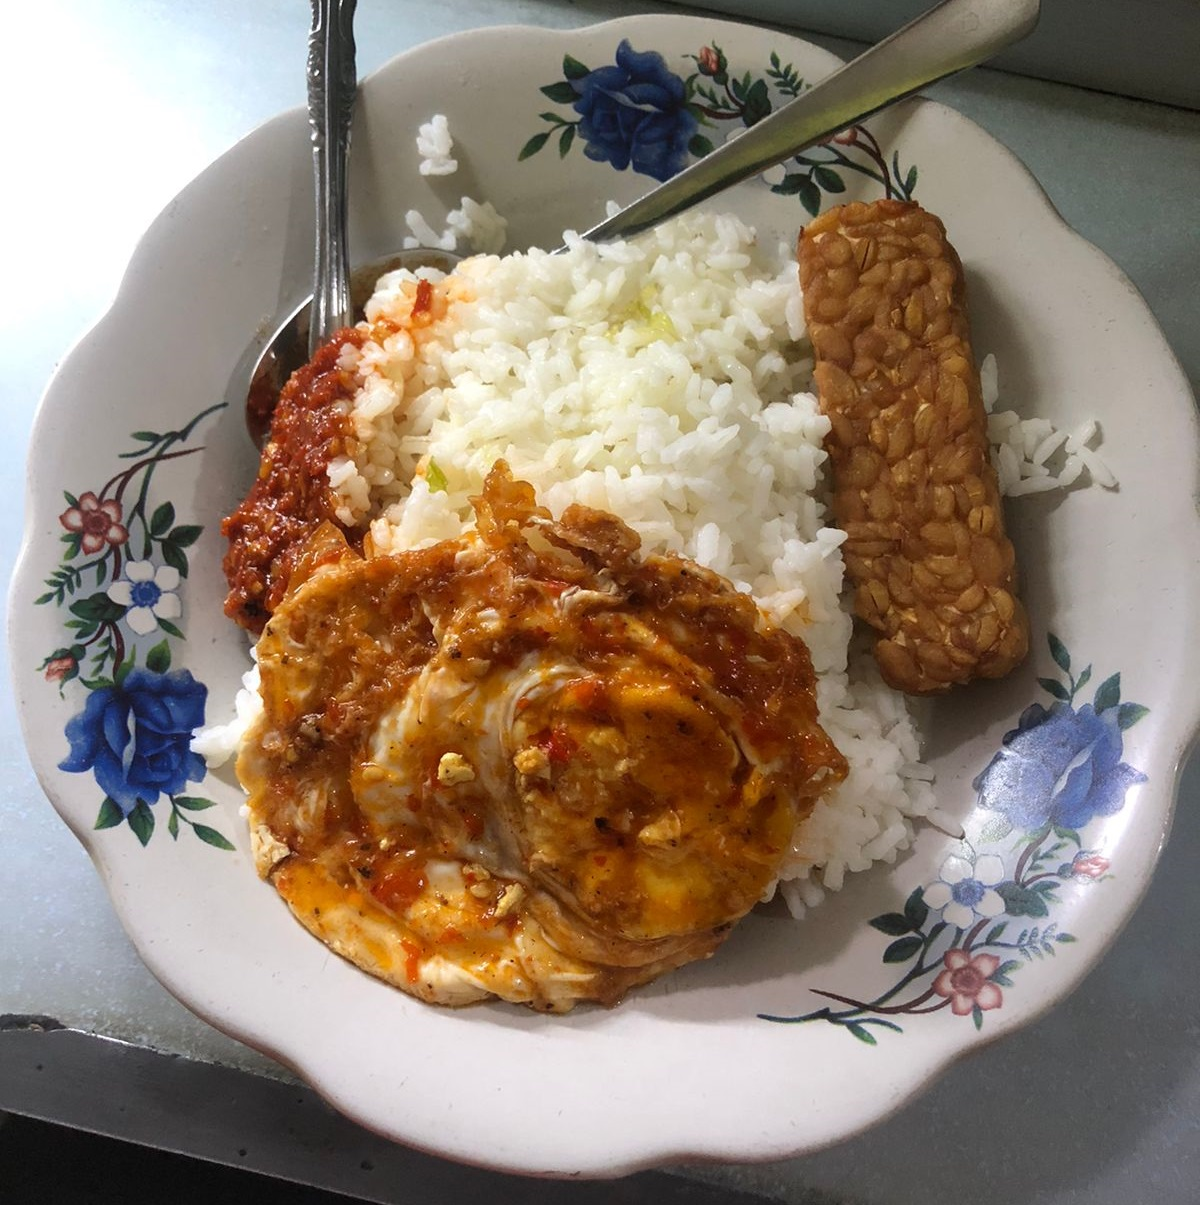Nasi: (362, 232, 795, 496)
Sambel: (227, 362, 351, 537)
Telur_ceplok_sambel: (230, 551, 791, 1003)
Tempe: (816, 227, 1044, 687)
